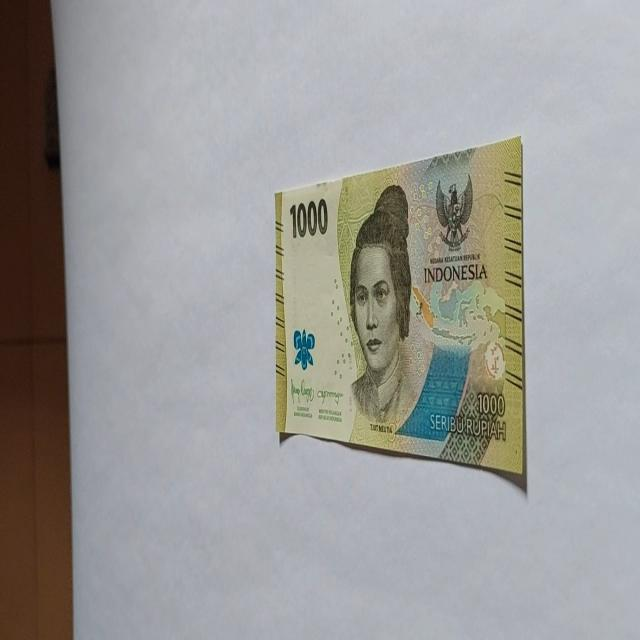seribu rupiah kertas: (274, 134, 526, 489)
